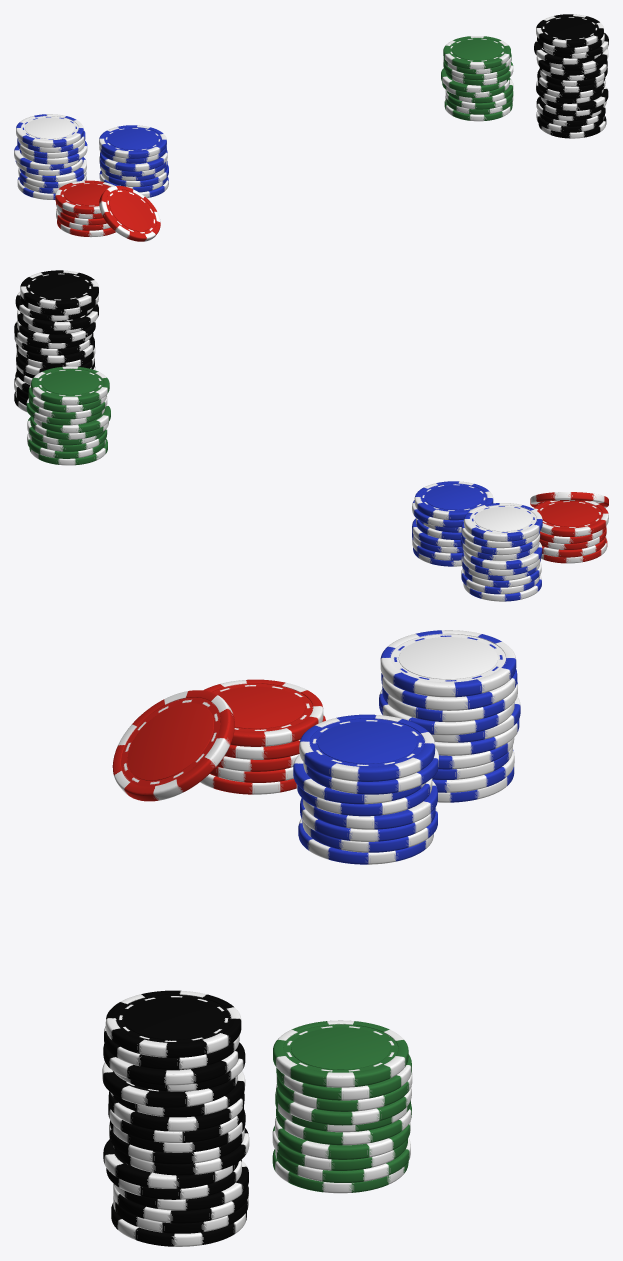
Rendered from TableChips-021.glb.
3 renders of one model, top to bottom at view 1: azimuth 30°, elevation 25°; view 2: azimuth 150°, elevation 25°; view 3: azimuth 270°, elevation 25°, orthographic. The views are drawn at different scales.
Parts seen in each view (by area): view 1: TableChips-021; view 2: TableChips-021; view 3: TableChips-021.
Boxes of the visible parts, <box> form: TableChips-021: <box>14,14,608,241</box>; TableChips-021: <box>14,270,608,601</box>; TableChips-021: <box>102,630,520,1246</box>.
Bounding box in the file's own units: 3.22 × 0.578 × 1.11.
5 materials, 5 textured.
